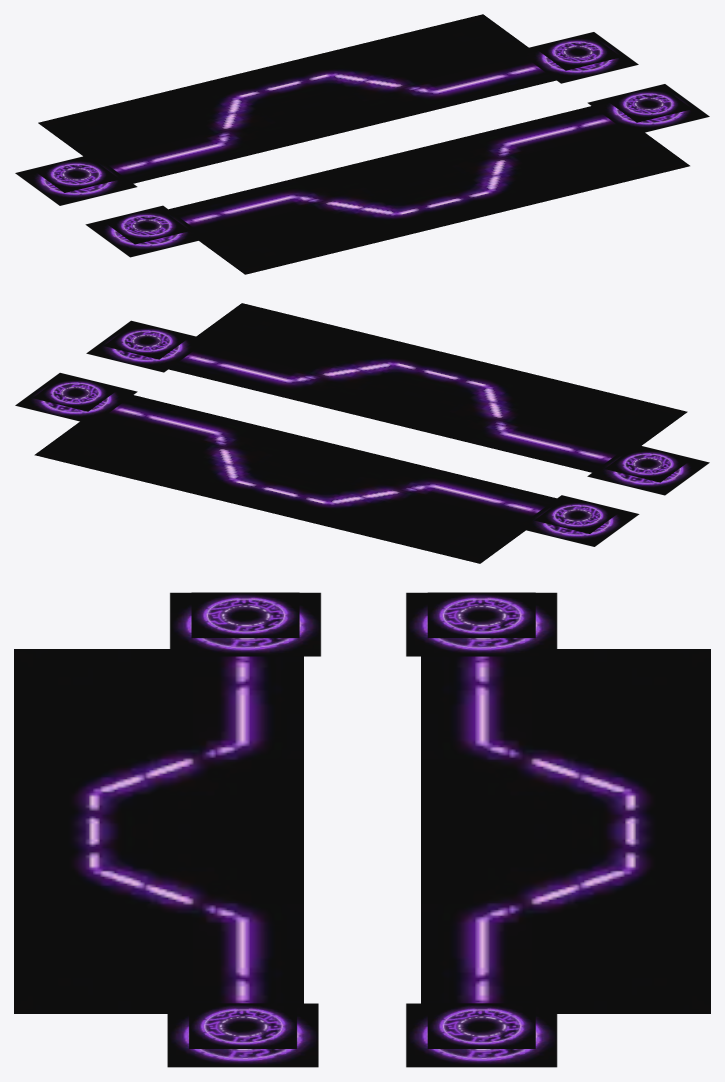
The picture shows the model from 3 angles, top to bottom: view 1: azimuth 30°, elevation 25°; view 2: azimuth 150°, elevation 25°; view 3: azimuth 270°, elevation 25°; orthographic projection. The views are drawn at different scales.
Size of the model in its own units: 6.51 by 0.0597 by 4.03.
3 materials, 3 textured.
